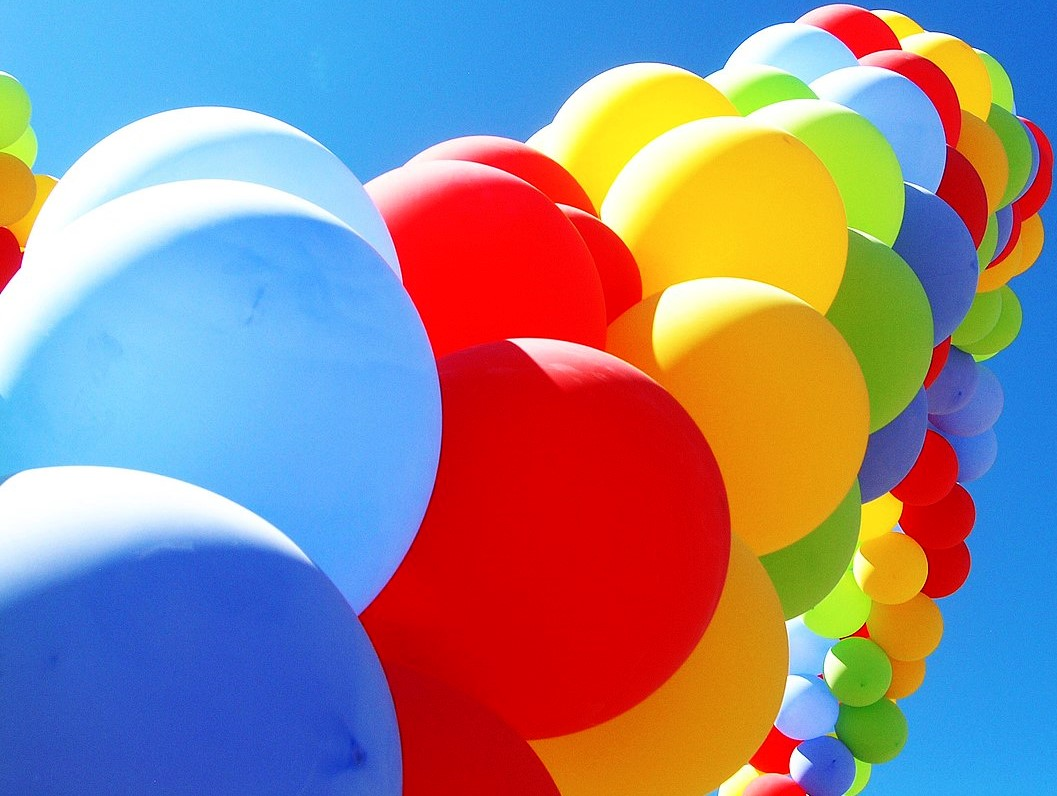Balloon: (1, 188, 444, 621), (320, 338, 730, 740), (600, 118, 846, 322), (866, 592, 943, 661), (855, 532, 927, 605), (824, 637, 892, 708), (892, 434, 957, 507), (837, 697, 908, 763), (773, 673, 839, 741), (790, 737, 855, 796)
